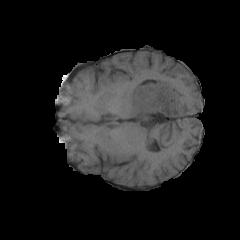glioma: (130, 79, 177, 135)
